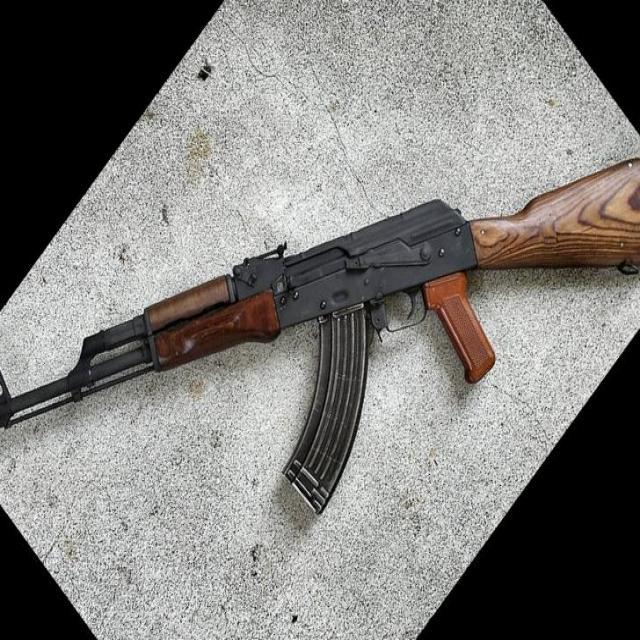weapon: (0, 157, 640, 518)
